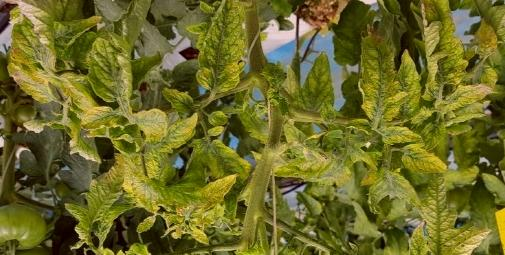Tomato leaf yellow virus: (0, 0, 62, 107), (353, 16, 408, 129), (192, 0, 249, 104), (72, 158, 141, 241), (418, 0, 472, 97), (89, 21, 137, 107), (294, 49, 336, 117), (192, 161, 240, 216), (147, 114, 206, 157), (430, 80, 501, 115), (396, 144, 459, 173), (129, 106, 172, 140), (78, 100, 112, 133)
